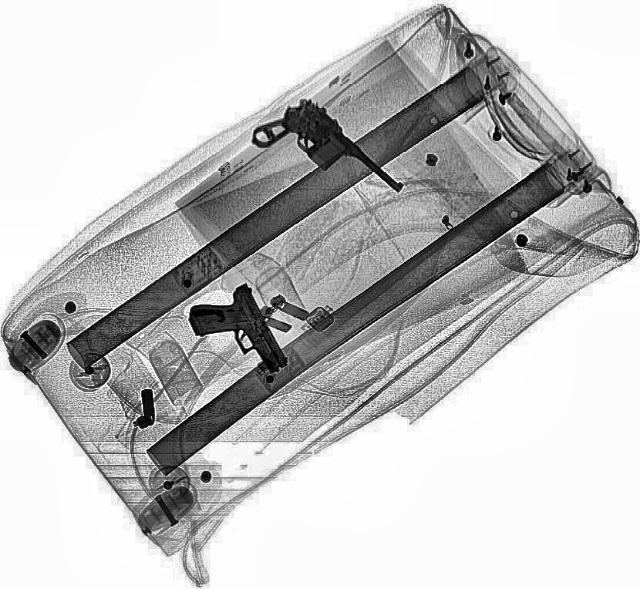Gun: (245, 90, 405, 230), (178, 279, 292, 391)
